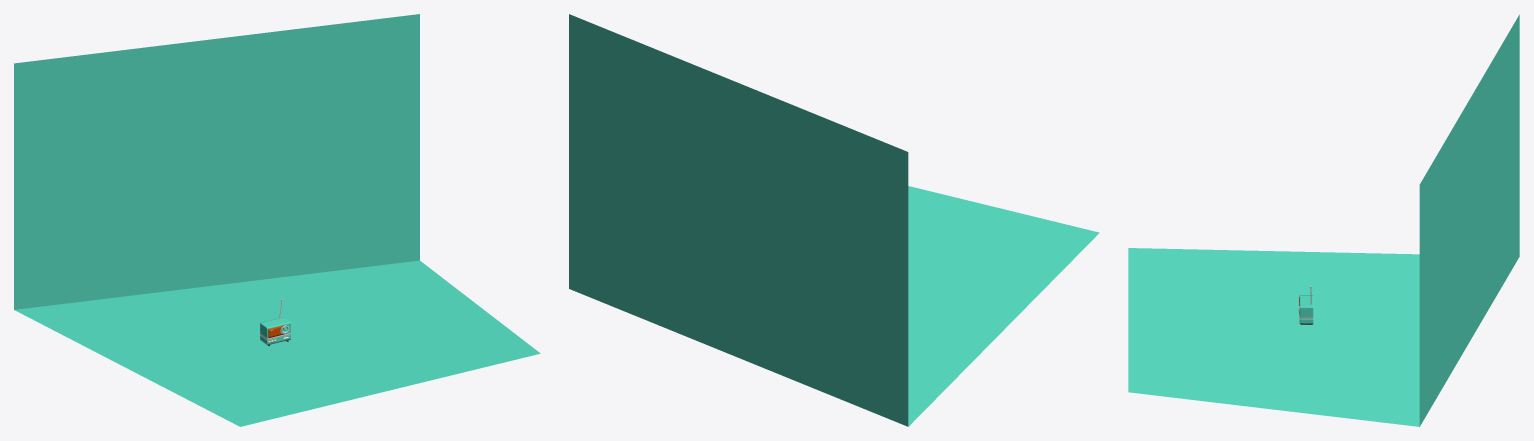
Rendered from Radio.glb.
3 renders of one model, left to right at view 1: azimuth 30°, elevation 25°; view 2: azimuth 150°, elevation 25°; view 3: azimuth 270°, elevation 25°, orthographic. The views are drawn at different scales.
Parts seen in each view (by area): view 1: Plane; view 2: Plane; view 3: Plane.
Boxes of the visible parts, x1,y1,x2,y2 form: Plane: (14,14,540,426); Plane: (569,14,1099,426); Plane: (1128,14,1519,426).
Size of the model in its own units: 2.36 by 1.57 by 2.29.
